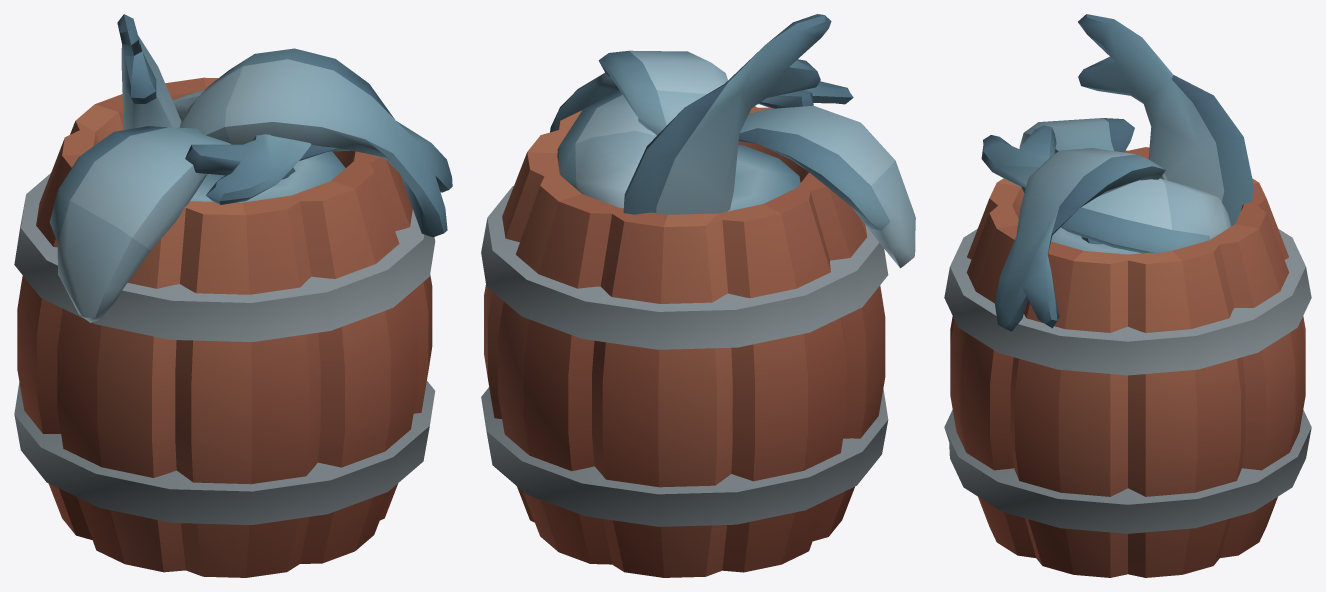
Rendered from fish.glb.
The picture shows the model from 3 angles, left to right: view 1: azimuth 30°, elevation 25°; view 2: azimuth 150°, elevation 25°; view 3: azimuth 270°, elevation 25°; orthographic projection. The views are drawn at different scales.
Parts seen in each view (by area): view 1: Food_Barrel_Fish; view 2: Food_Barrel_Fish; view 3: Food_Barrel_Fish.
Boxes of the visible parts, <box> form: Food_Barrel_Fish: <box>14,14,452,577</box>; Food_Barrel_Fish: <box>481,14,915,577</box>; Food_Barrel_Fish: <box>944,14,1311,577</box>.
Size of the model in its own units: 1.28 by 1.71 by 1.25.
Materials: 1 (1 with a texture image).
